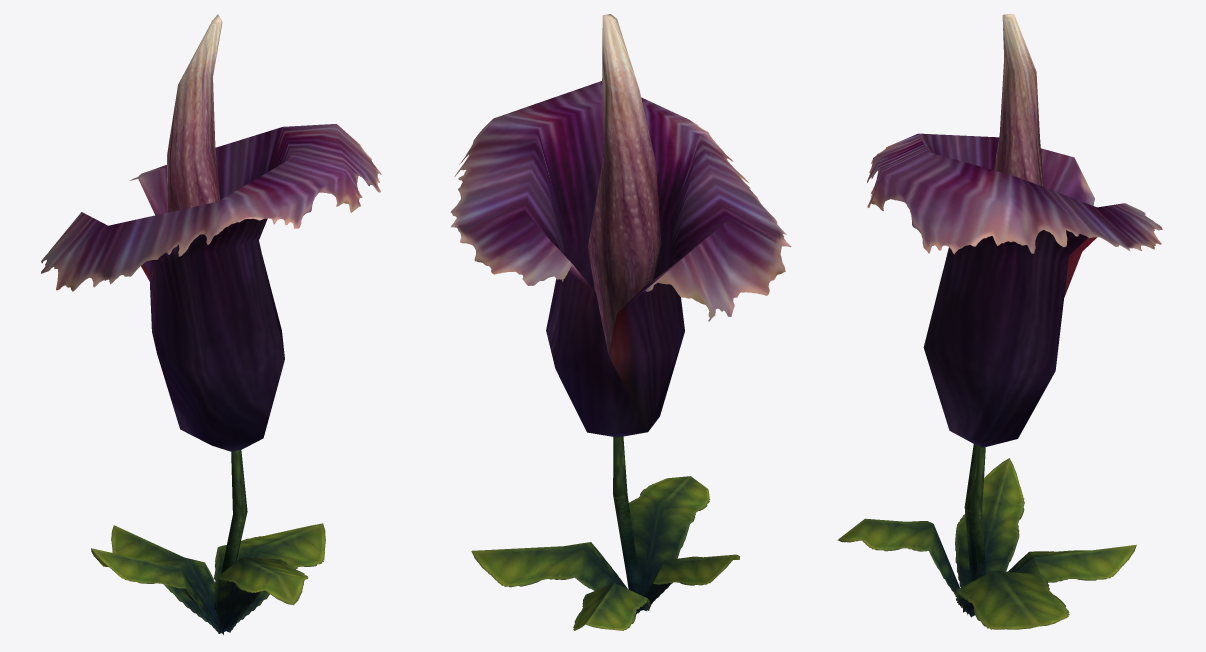
Rendered from wm_紫蕉花01.fbx.
3 views of the same model, side by side, from view 1: azimuth 30°, elevation 25°; view 2: azimuth 150°, elevation 25°; view 3: azimuth 270°, elevation 25° (orthographic).
Visible parts, largest first — view 1: wm_紫蕉花01; view 2: wm_紫蕉花01; view 3: wm_紫蕉花01.
Part boxes in pixels (x1,y1,x2,y2): wm_紫蕉花01: (41,14,381,634); wm_紫蕉花01: (450,14,791,630); wm_紫蕉花01: (837,14,1162,629).
Bounding box in the file's own units: 114 × 201 × 106.
